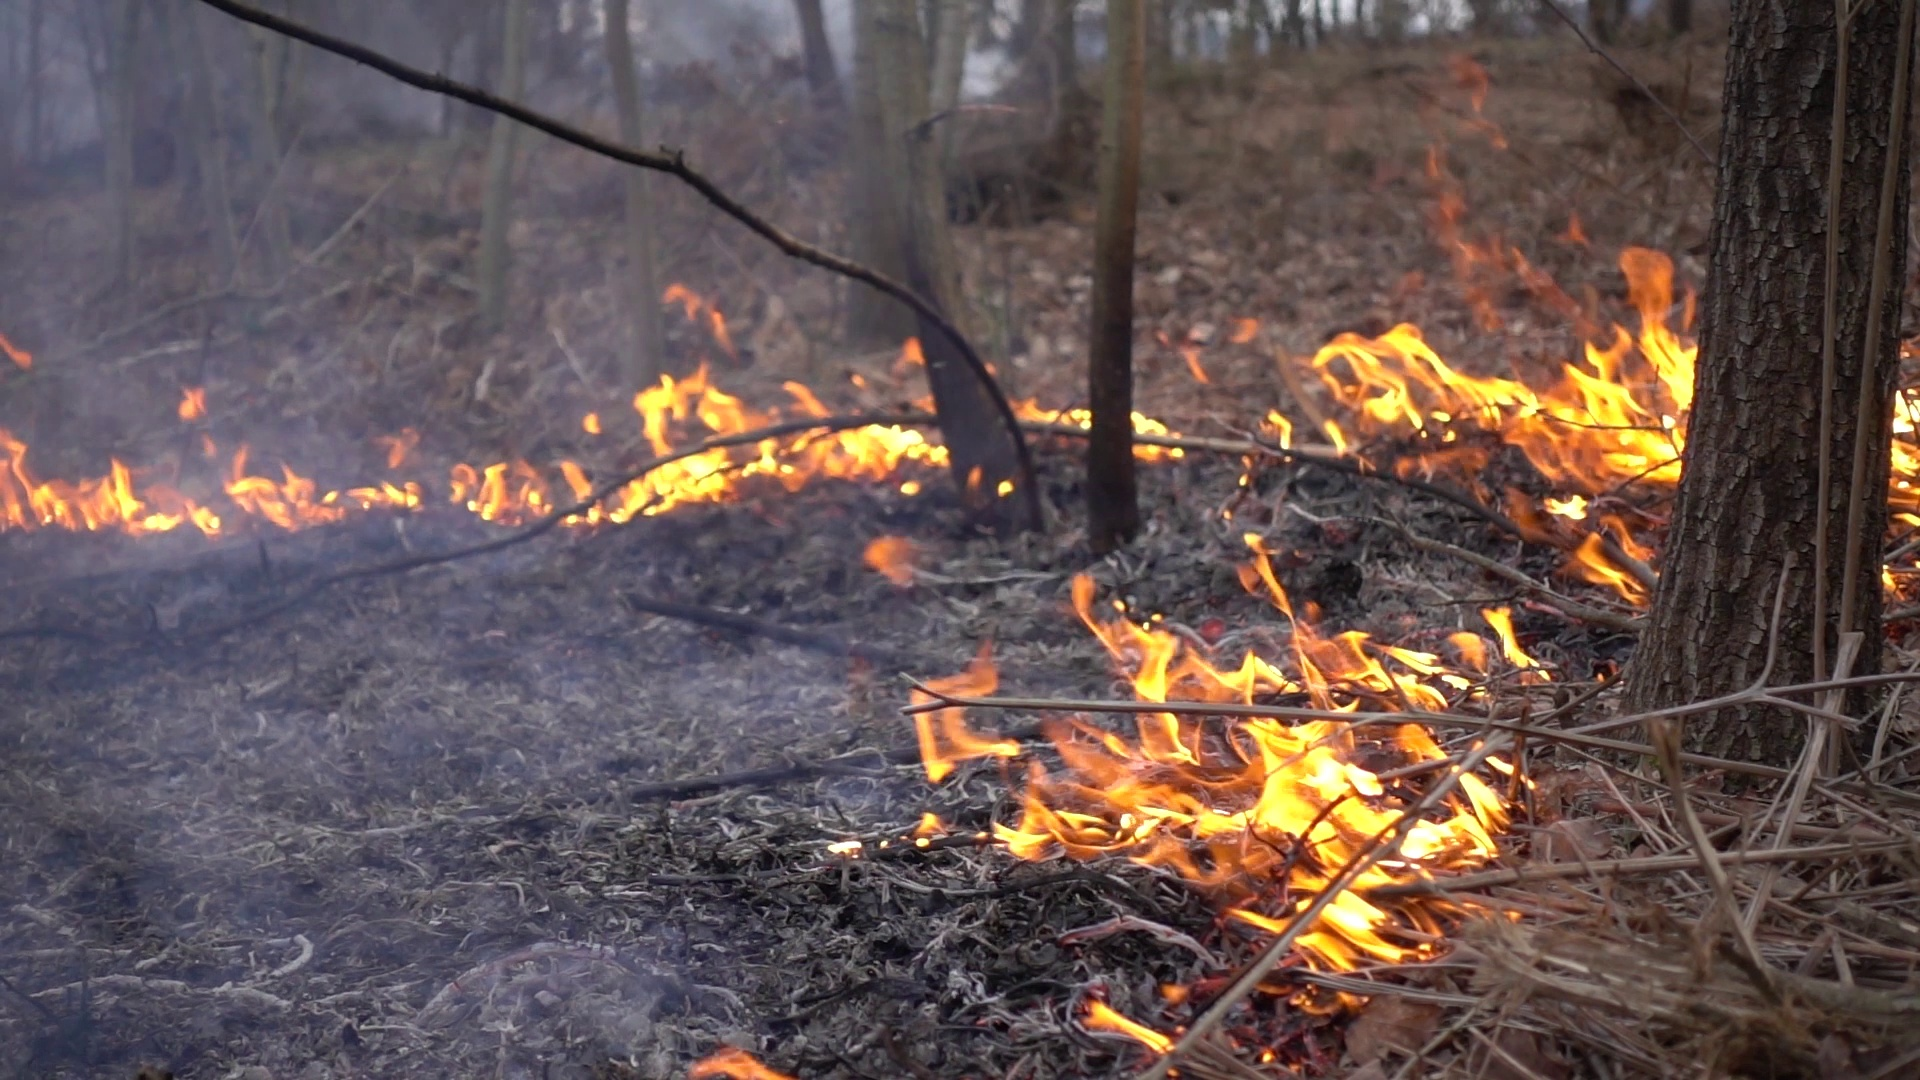fire: (913, 589, 1536, 984), (1311, 287, 1698, 510), (593, 373, 934, 527), (7, 448, 182, 534), (225, 468, 418, 524), (452, 456, 550, 530), (1888, 396, 1920, 508)
